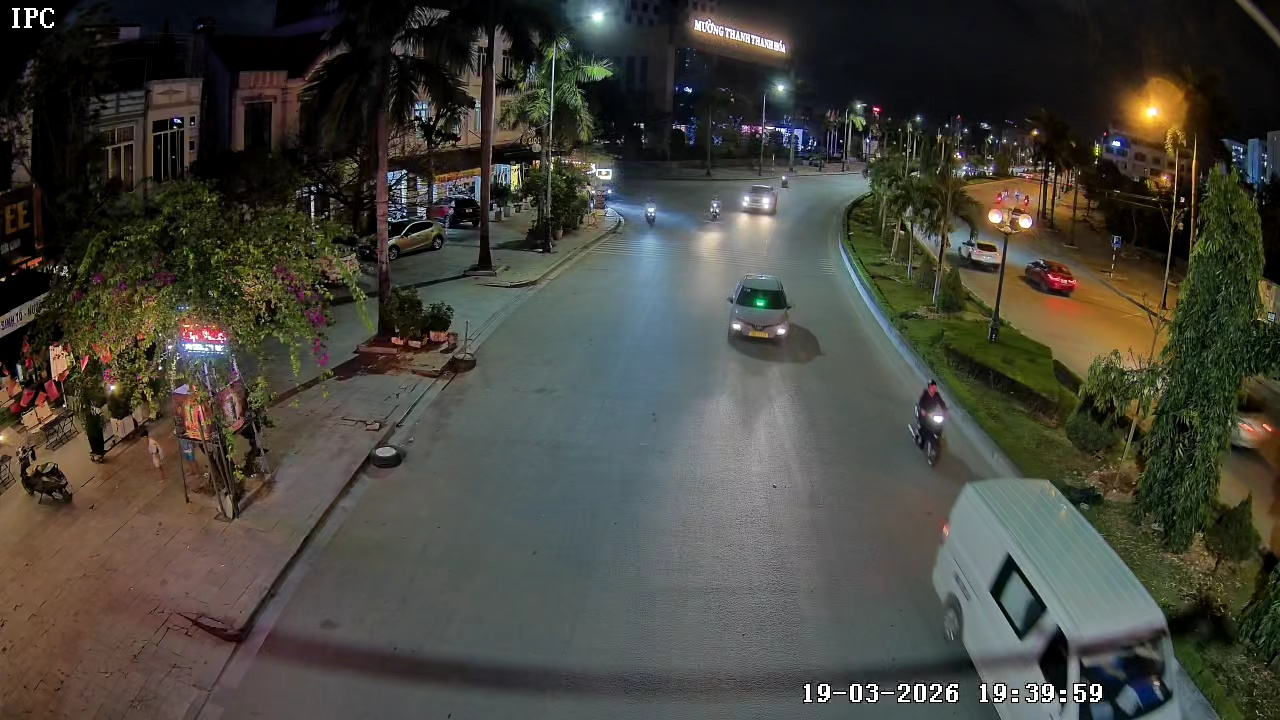car: (930, 475, 1179, 719), (725, 272, 795, 348), (740, 181, 780, 217)
motorbike: (906, 376, 953, 468), (16, 440, 76, 507), (706, 194, 724, 225)
